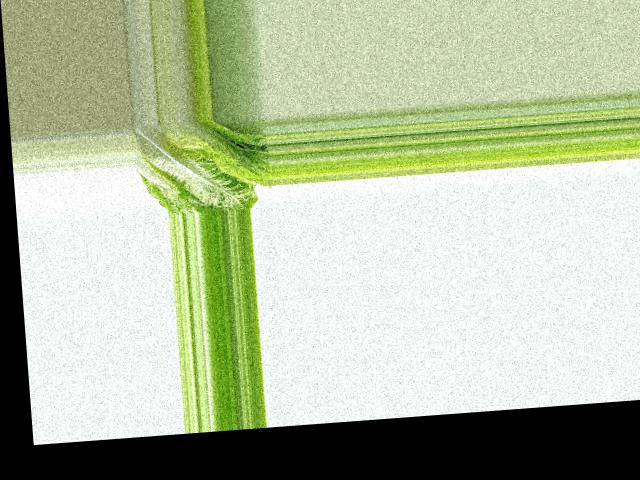lettuce: (131, 116, 274, 216)
